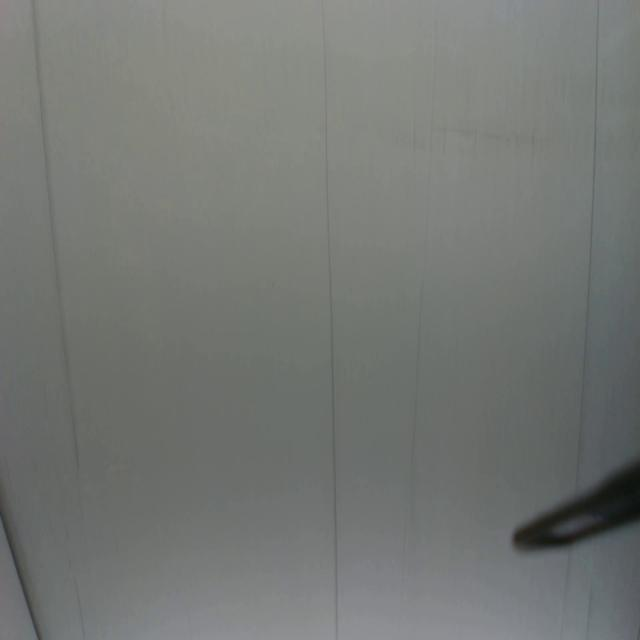crease: (28, 0, 83, 474), (404, 3, 442, 482), (315, 0, 343, 639), (572, 0, 606, 476), (0, 503, 43, 640), (559, 549, 574, 640), (74, 571, 88, 640)
